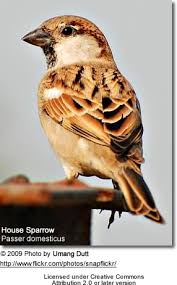hsparrow: (14, 10, 168, 226)
